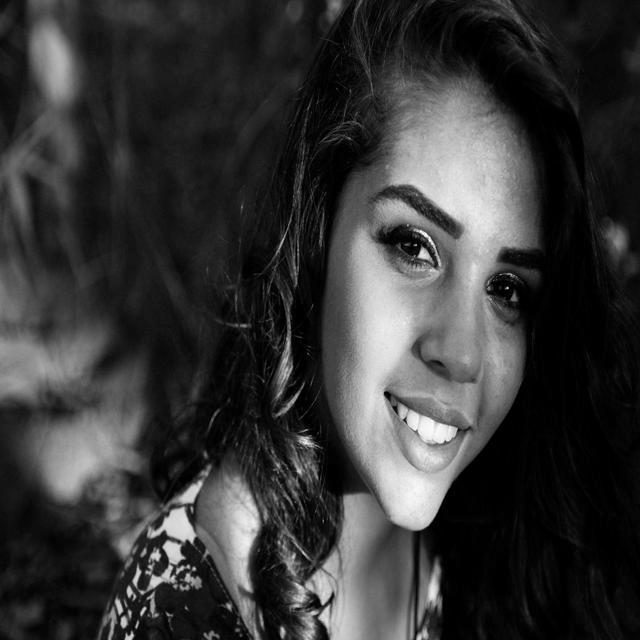Happiness: (322, 102, 544, 534)
